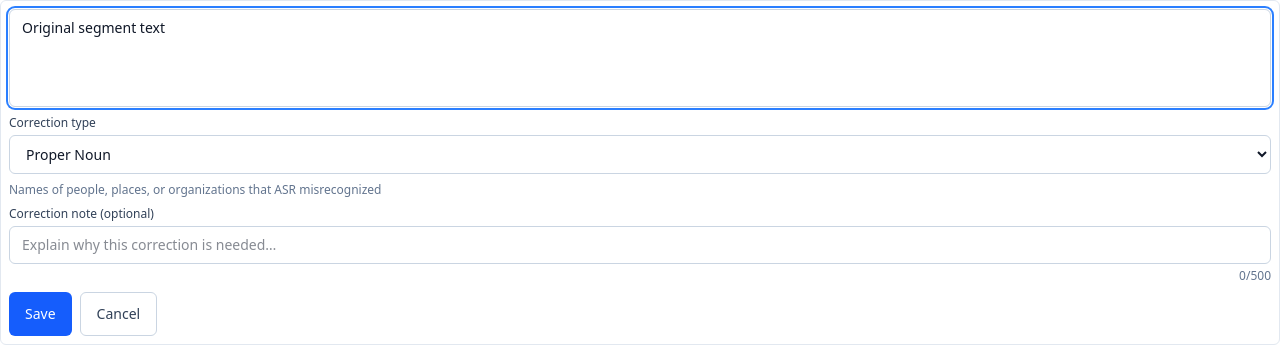
Test: SegmentEditForm › Test 3 — Correction note input with maxLength and character counter › updates character counter as user types in note input
The image size is (1280, 362).
Type "Hello" into the field labelled "Correction note (optional)". click: (640, 245)
box: [9, 226, 1271, 264]
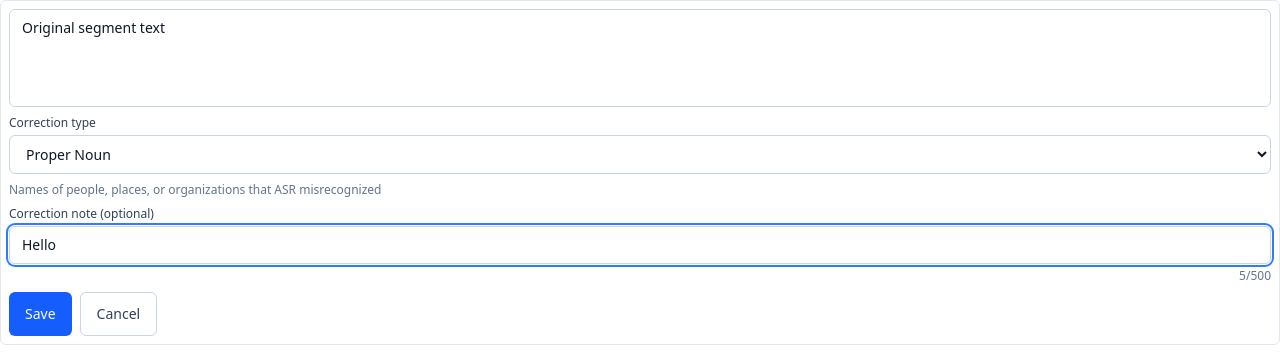
Check: the text "5/500" is shown, box [1239, 267, 1271, 284]
